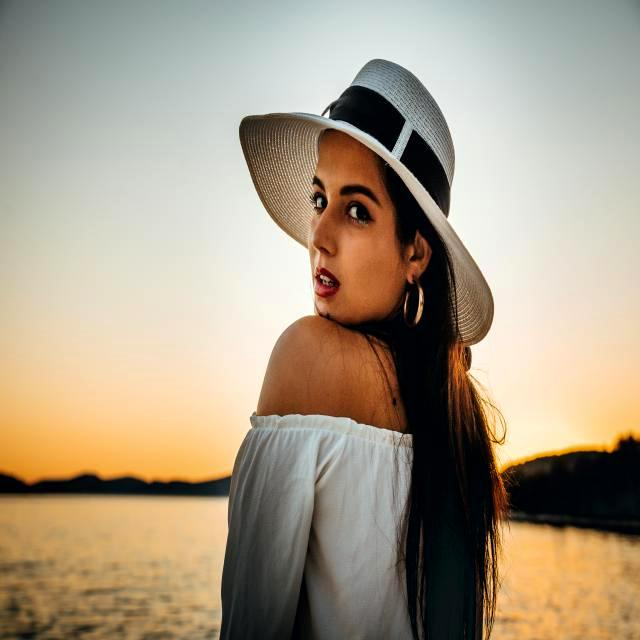no_hard_hat: (239, 60, 494, 345)
person: (214, 63, 501, 640)
